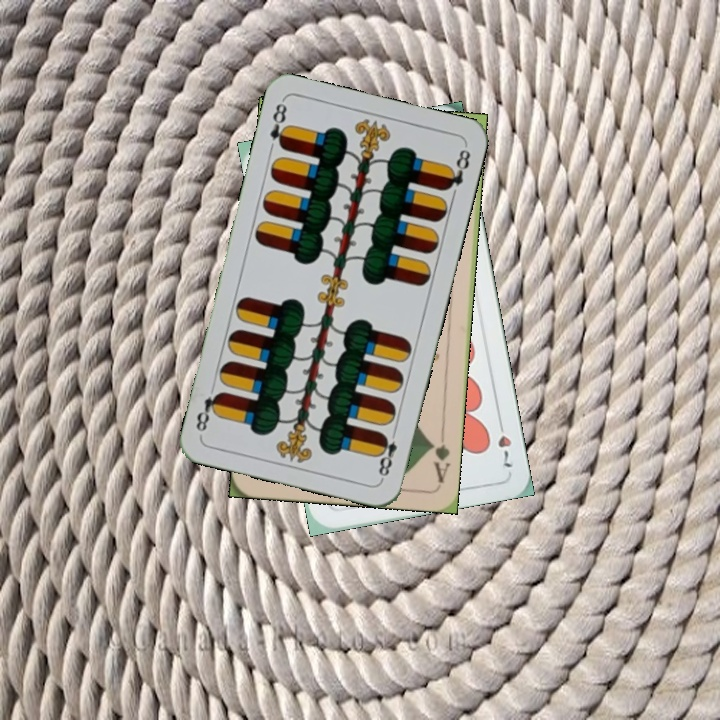E8: (373, 424, 400, 482), (266, 97, 292, 152)
GA: (426, 427, 452, 486)
H7: (494, 414, 515, 470)
